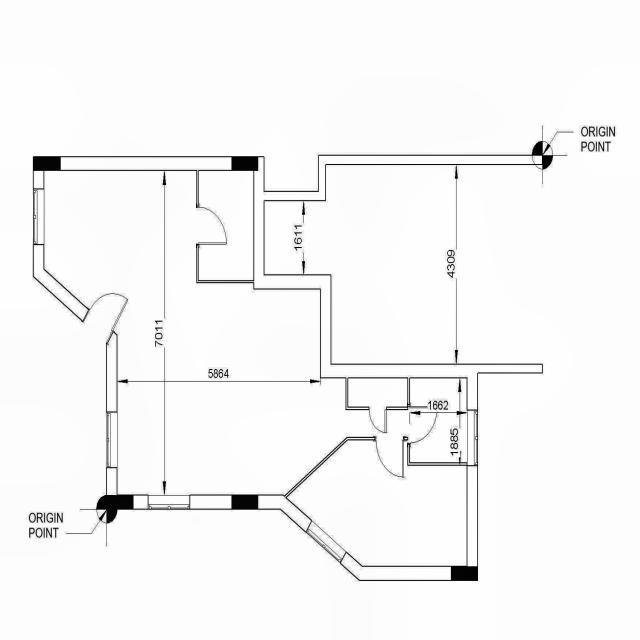Column: (106, 494, 135, 512), (33, 155, 61, 172), (231, 156, 260, 172), (451, 566, 478, 582), (232, 494, 258, 510)
Door: (80, 288, 130, 348), (195, 200, 229, 252), (372, 437, 406, 482), (368, 404, 390, 435)
Window: (305, 519, 348, 566), (464, 408, 481, 470), (32, 187, 48, 250), (143, 493, 194, 512), (105, 408, 119, 476)
